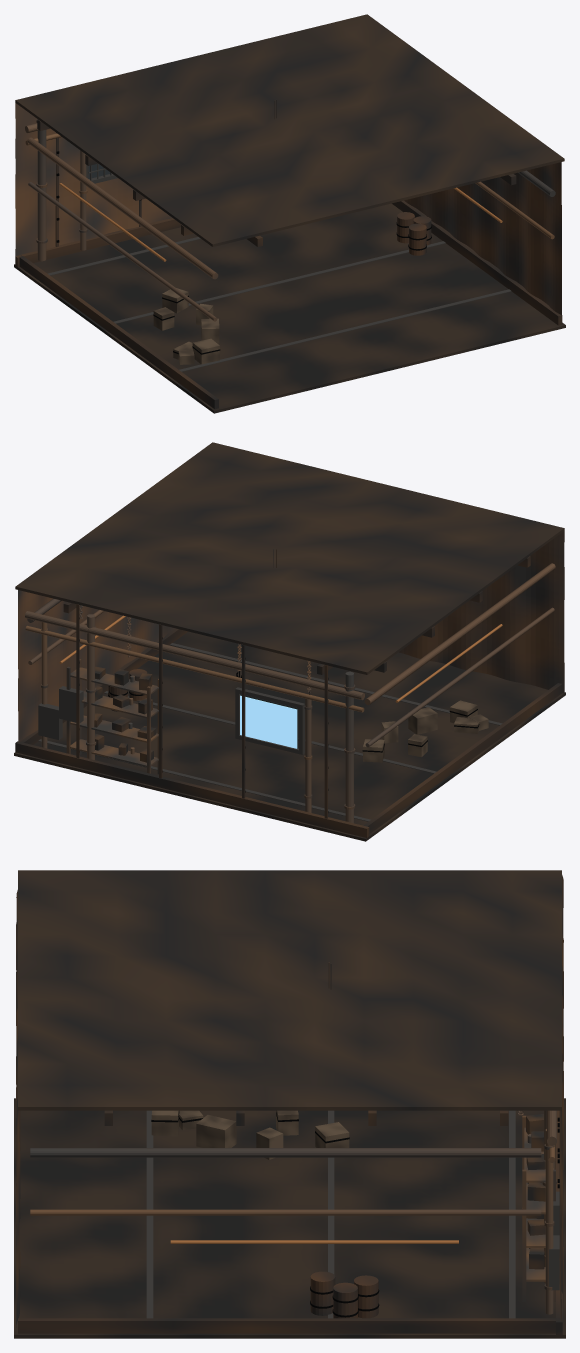
File: room_environment.glb
3 renders of one model, top to bottom at view 1: azimuth 30°, elevation 25°; view 2: azimuth 150°, elevation 25°; view 3: azimuth 270°, elevation 25°, orthographic. The views are drawn at different scales.
Visible parts, largest first — view 1: RM_Rust, RM_Sheet, RM_Pipe, RM_Frame, RM_Wood, RM_Copper; view 2: RM_Rust, RM_Sheet, RM_Pipe, RM_Frame, RM_Shelf, RM_Wood, RM_WindowGlow, RM_Copper; view 3: RM_Rust, RM_Pipe, RM_Frame, RM_Wood, RM_Sheet, RM_Shelf, RM_Copper.
Part boxes in pixels (left/top/right/bottom): RM_Rust: left=14, top=14, right=565, bottom=413; RM_Sheet: left=15, top=103, right=561, bottom=315; RM_Pipe: left=25, top=99, right=555, bottom=321; RM_Frame: left=48, top=163, right=511, bottom=371; RM_Wood: left=153, top=288, right=219, bottom=364; RM_Copper: left=59, top=183, right=502, bottom=261; RM_Rust: left=14, top=442, right=565, bottom=841; RM_Sheet: left=18, top=531, right=564, bottom=742; RM_Pipe: left=25, top=549, right=555, bottom=823; RM_Frame: left=38, top=643, right=502, bottom=821; RM_Shelf: left=66, top=659, right=158, bottom=774; RM_Wood: left=363, top=700, right=488, bottom=762; RM_WindowGlow: left=240, top=695, right=297, bottom=748; RM_Copper: left=59, top=615, right=502, bottom=702; RM_Rust: left=14, top=870, right=565, bottom=1338; RM_Pipe: left=30, top=962, right=556, bottom=1317; RM_Frame: left=146, top=1110, right=559, bottom=1318; RM_Wood: left=151, top=1110, right=349, bottom=1159; RM_Sheet: left=16, top=875, right=563, bottom=1327; RM_Shelf: left=522, top=1115, right=555, bottom=1301; RM_Copper: left=170, top=1240, right=458, bottom=1243.
Size of the model in its own units: 13.6 by 6.9 by 13.4.
